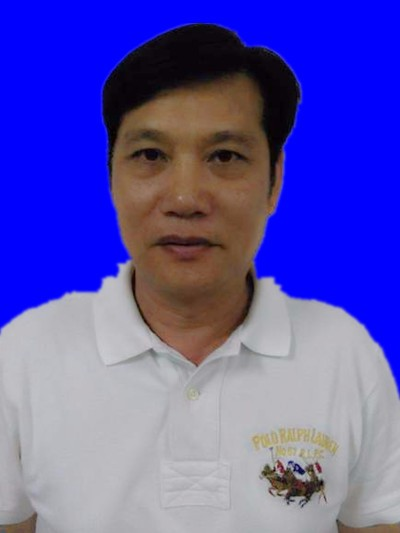unmask: (119, 87, 267, 297)
